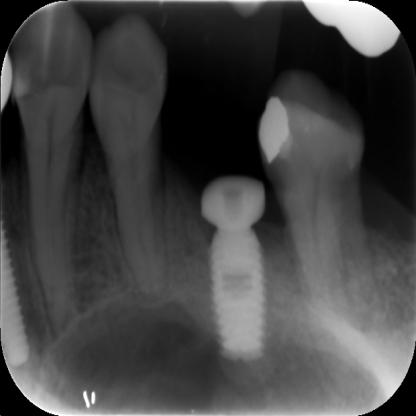Bicon: (208, 227, 264, 360)
